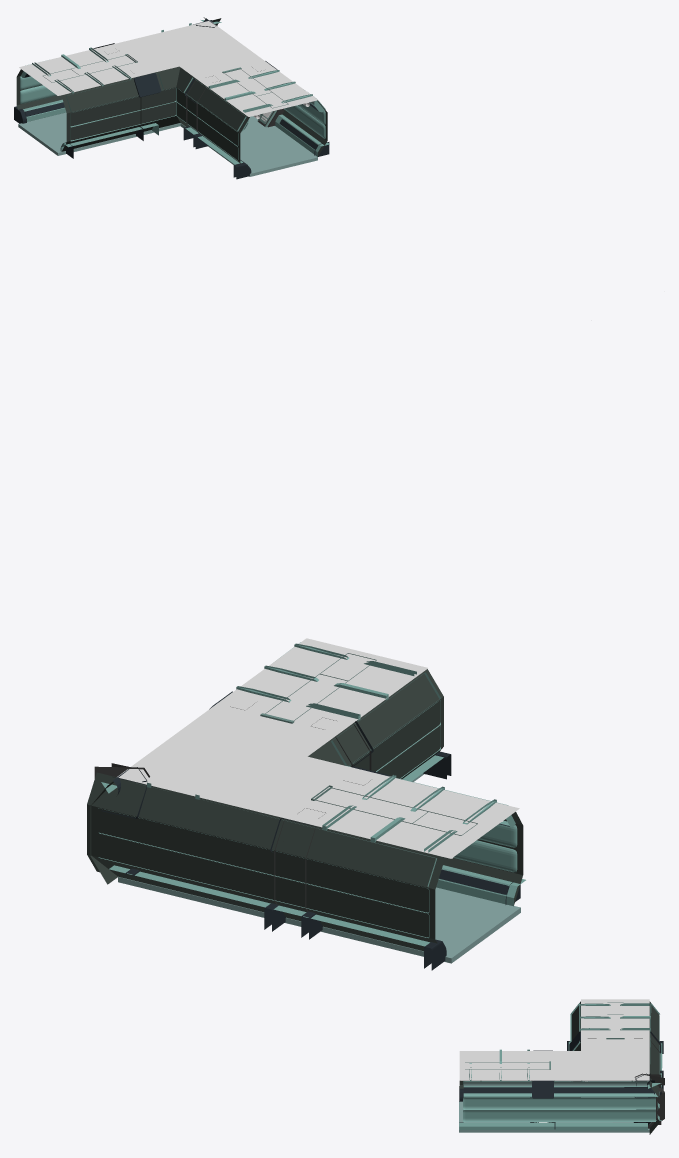
Rendered from rouka_曲がり角(左).fbx.
The picture shows the model from 3 angles, top to bottom: view 1: azimuth 30°, elevation 25°; view 2: azimuth 150°, elevation 25°; view 3: azimuth 270°, elevation 25°; orthographic projection. The views are drawn at different scales.
Parts seen in each view (by area): view 1: 床.001; view 2: 床.001; view 3: 床.001.
Part boxes in pixels (<box>): 床.001: <box>14,17,329,179</box>; 床.001: <box>87,638,525,970</box>; 床.001: <box>459,999,664,1134</box>.
Size of the model in its own units: 3785 by 783 by 8611.
